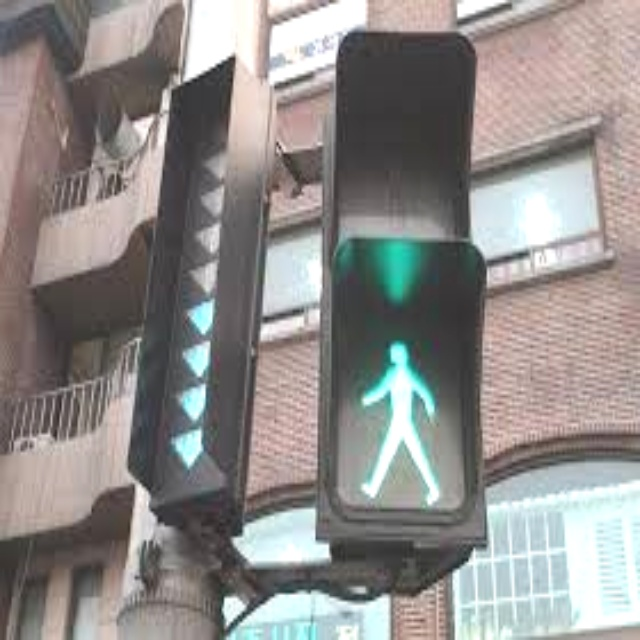green_light: (354, 335, 451, 508), (167, 427, 205, 470), (179, 297, 218, 335), (172, 383, 210, 421), (177, 344, 217, 376)
